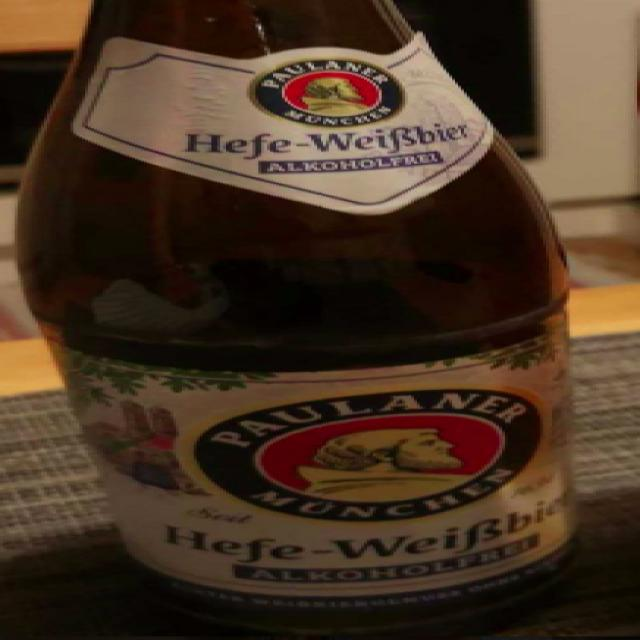Paulaner Weissbier: (0, 1, 640, 640)
